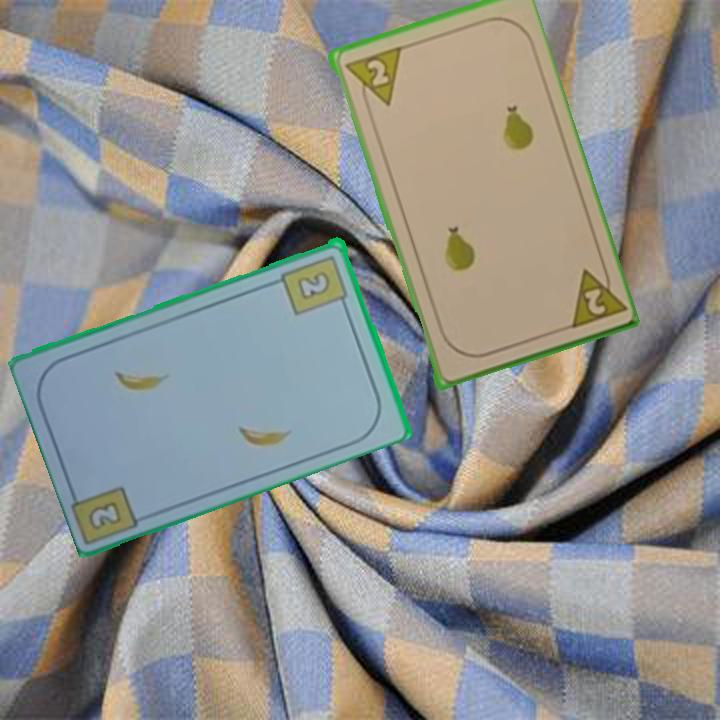2b: (278, 251, 351, 318), (84, 496, 125, 533)
2p: (562, 259, 626, 332), (340, 43, 403, 114)
